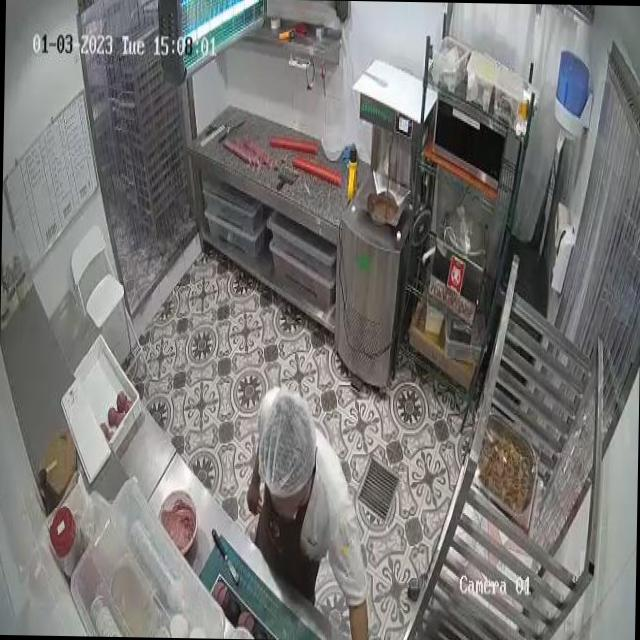hairnet: (260, 390, 314, 492)
